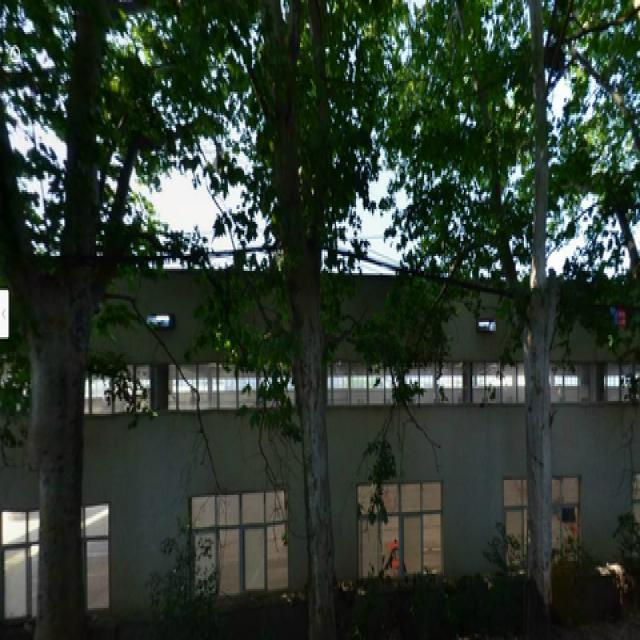meta: (434, 30, 594, 601), (213, 41, 347, 600), (18, 25, 138, 606)
